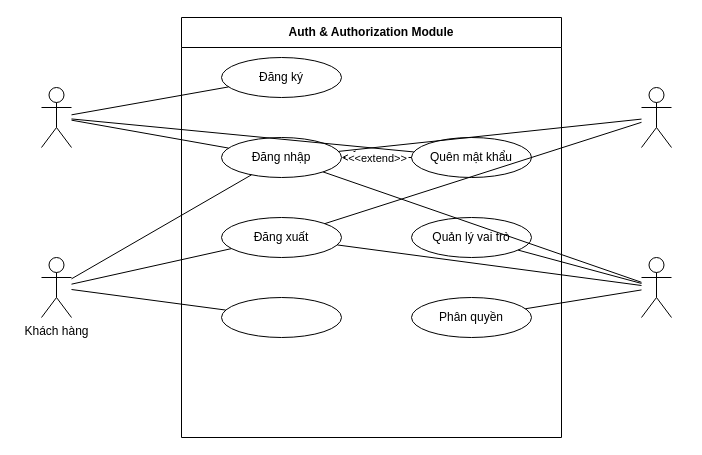
This 702x455 diagram has some shape labels left out. The centre of each missing label's shape, as x and y in pixels:
Cập nhật hồ sơ: point (281, 317)
Khách vãng lai: point (56, 117)
Nhân Viên: point (656, 117)
Quản lý: point (656, 287)
